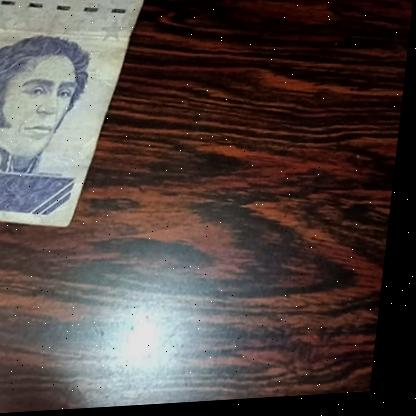vef_front: (0, 0, 154, 233)
